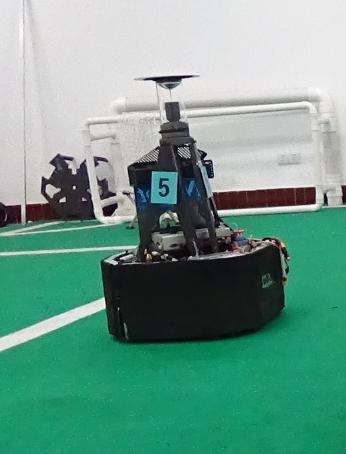robot: (94, 72, 291, 343)
